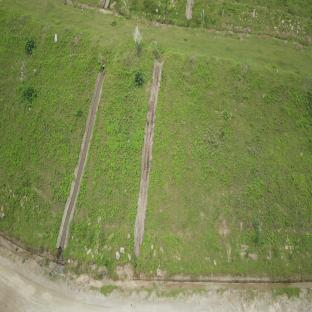slope_drain: (53, 66, 105, 253), (131, 61, 163, 256)
toe_drain: (0, 233, 312, 291)
